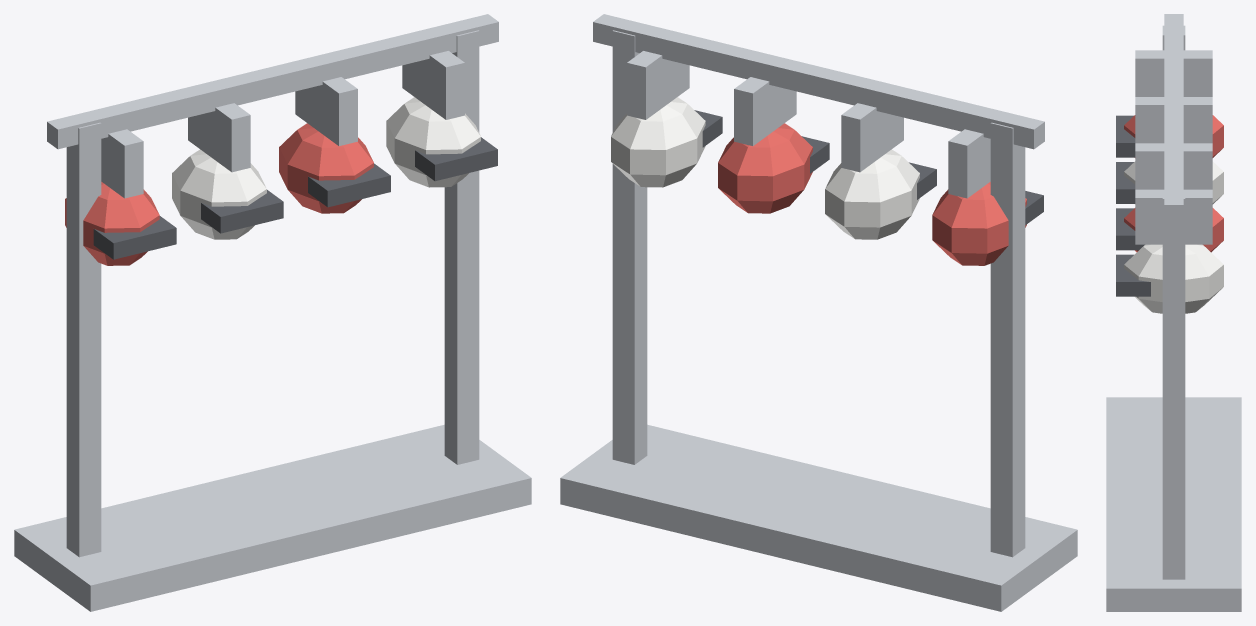
The model's file is velodrome-and-track-cycling-helmet-rack-629d002f__38025.glb.
The picture shows the model from 3 angles, left to right: view 1: azimuth 30°, elevation 25°; view 2: azimuth 150°, elevation 25°; view 3: azimuth 270°, elevation 25°; orthographic projection. The views are drawn at different scales.
Visible parts, largest first — view 1: helmet-rack-steel, helmet-rack-chalk, helmet-rack-red, helmet-rack-charcoal; view 2: helmet-rack-steel, helmet-rack-chalk, helmet-rack-red, helmet-rack-charcoal; view 3: helmet-rack-steel, helmet-rack-chalk, helmet-rack-charcoal, helmet-rack-red.
Boxes of the visible parts, x1=… form: helmet-rack-steel: x1=14, y1=14, x2=531, y2=611; helmet-rack-chalk: x1=172, y1=97, x2=480, y2=239; helmet-rack-red: x1=65, y1=123, x2=373, y2=265; helmet-rack-charcoal: x1=93, y1=137, x2=497, y2=259; helmet-rack-steel: x1=560, y1=14, x2=1077, y2=611; helmet-rack-chalk: x1=611, y1=97, x2=919, y2=239; helmet-rack-red: x1=718, y1=123, x2=1026, y2=265; helmet-rack-charcoal: x1=694, y1=110, x2=1043, y2=224; helmet-rack-steel: x1=1106, y1=14, x2=1241, y2=611; helmet-rack-chalk: x1=1124, y1=161, x2=1223, y2=313; helmet-rack-charcoal: x1=1116, y1=115, x2=1150, y2=296; helmet-rack-red: x1=1124, y1=115, x2=1223, y2=252.
Bounding box in the file's own units: 1.4 × 1.39 × 0.42.
